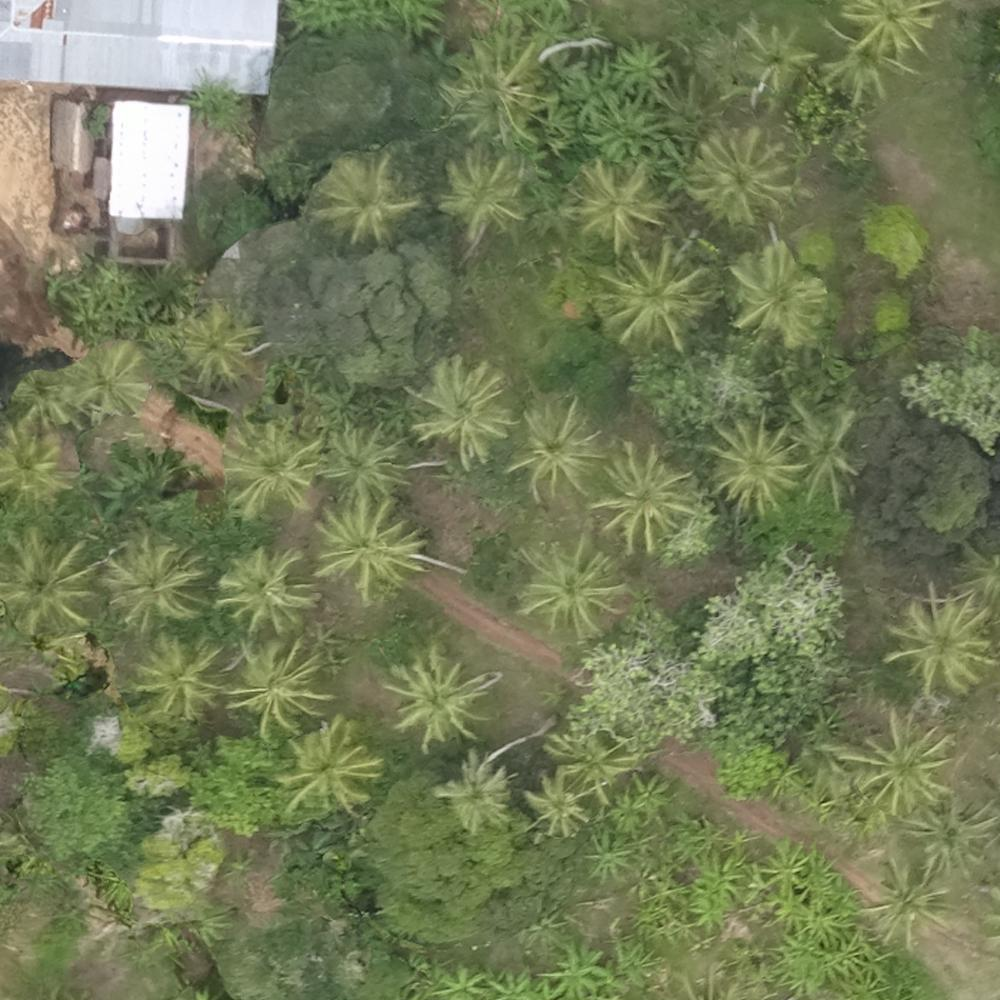Palm: (318, 498, 427, 599), (597, 244, 704, 346), (515, 540, 624, 634), (594, 445, 696, 545), (894, 589, 990, 695), (2, 526, 97, 632), (416, 357, 514, 458), (221, 419, 318, 517), (449, 40, 547, 135), (849, 713, 950, 805), (711, 414, 808, 509), (730, 244, 825, 339), (391, 648, 485, 744), (693, 126, 790, 219), (101, 536, 202, 623), (569, 158, 666, 246), (282, 726, 380, 813), (788, 399, 867, 506), (217, 551, 319, 633), (232, 642, 326, 728), (902, 800, 995, 886), (859, 865, 952, 948), (519, 404, 603, 493), (545, 722, 632, 804), (821, 19, 911, 98), (322, 156, 409, 236), (438, 152, 525, 229), (133, 638, 216, 717), (325, 428, 410, 504), (70, 336, 146, 416), (729, 18, 809, 92), (442, 750, 514, 826), (842, 1, 936, 59), (1, 415, 64, 497), (179, 310, 250, 378), (527, 771, 592, 839)
